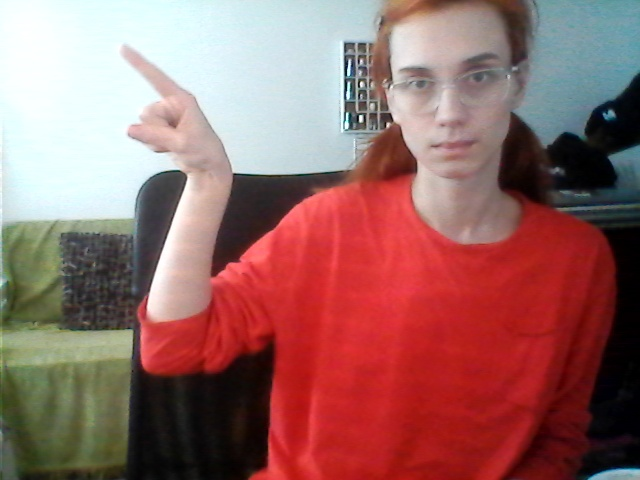on: (93, 34, 267, 376)
